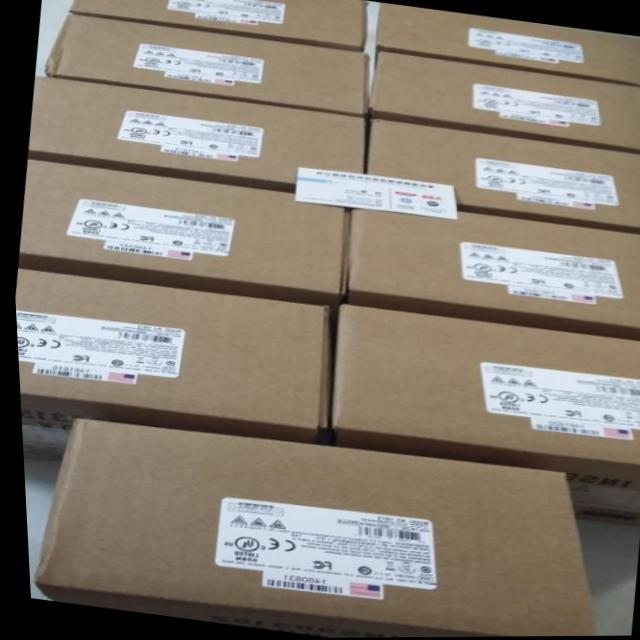box: (29, 418, 588, 638), (326, 305, 640, 510), (13, 270, 325, 462), (17, 160, 345, 307), (346, 210, 640, 342), (29, 77, 363, 193), (44, 15, 366, 118), (367, 120, 640, 235), (374, 53, 640, 153), (378, 4, 640, 87), (69, 0, 365, 53), (570, 505, 637, 527)
